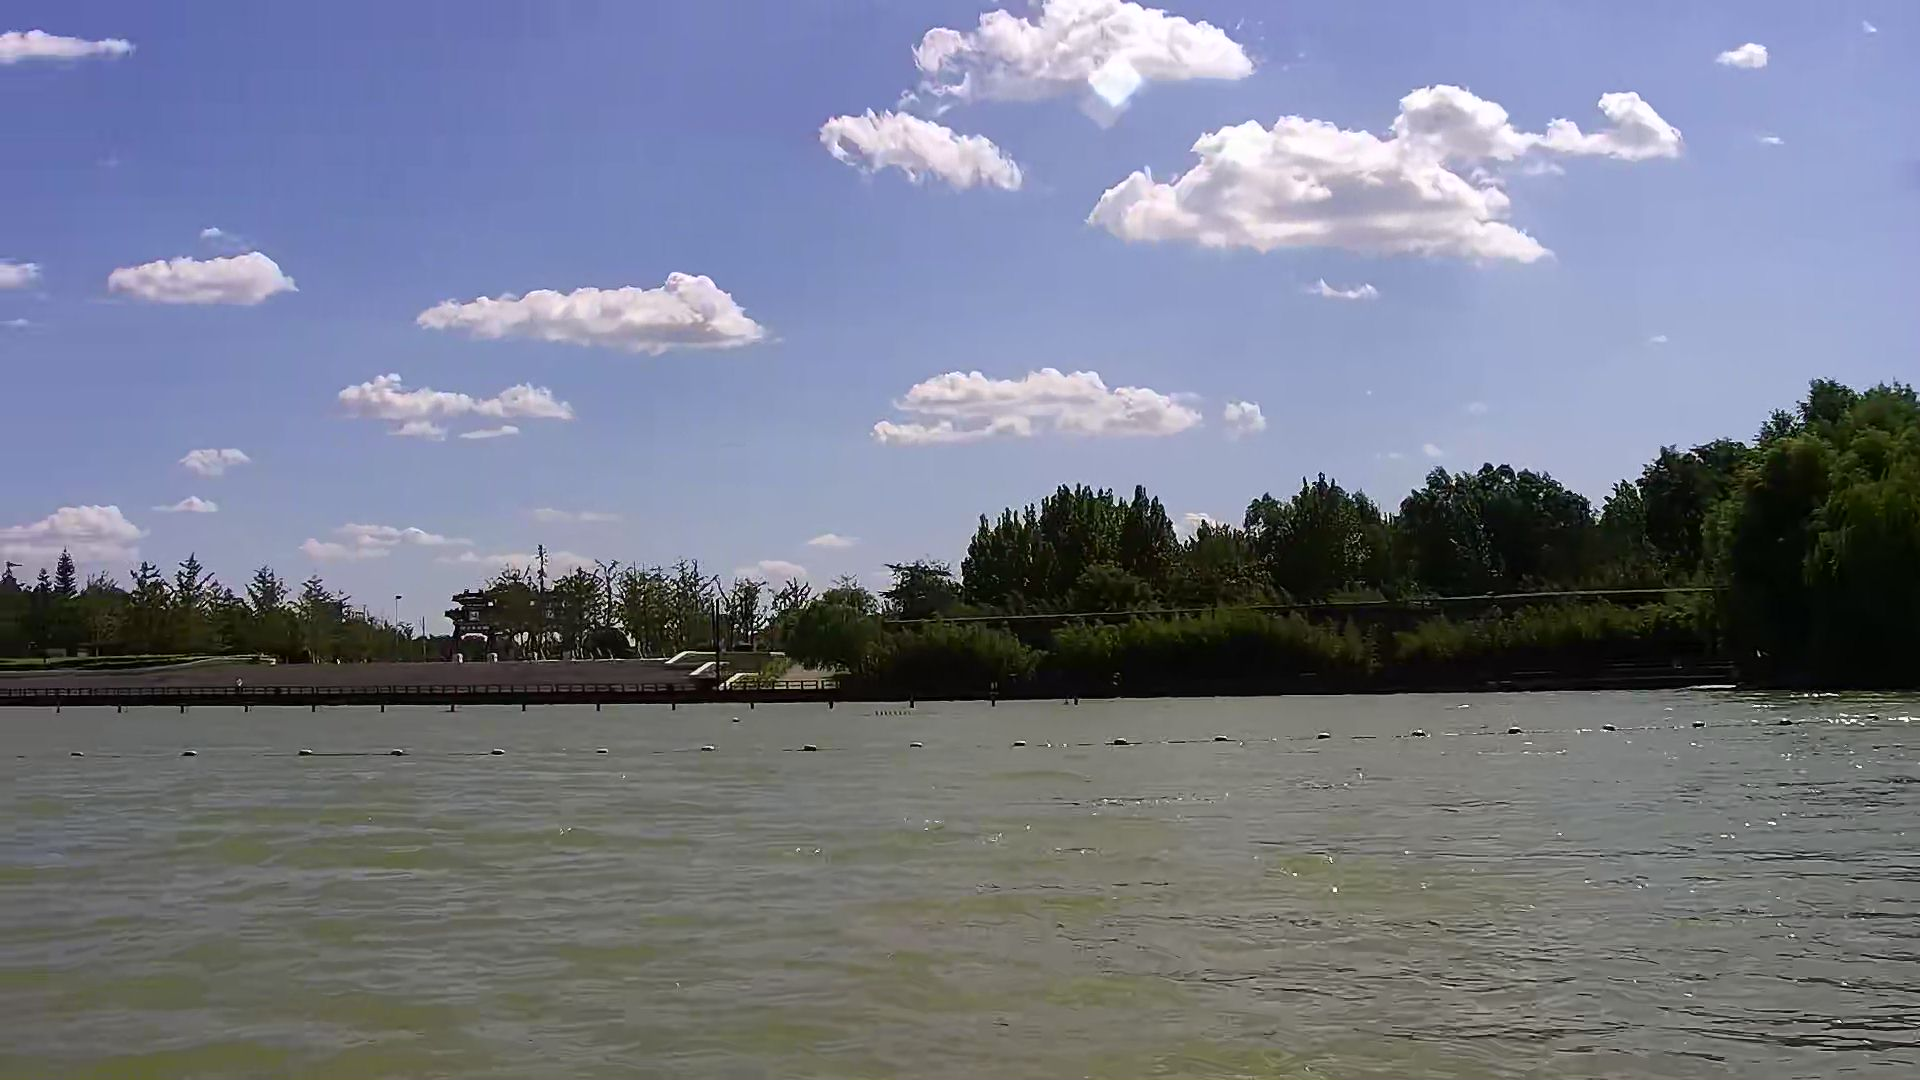ball: (796, 732, 825, 761), (1106, 727, 1135, 756), (287, 742, 324, 762), (1498, 717, 1528, 741), (385, 742, 411, 764), (177, 745, 202, 765)
harbor: (1, 659, 837, 698)
